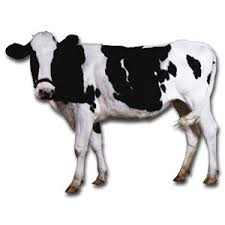waka: (3, 26, 220, 196)
